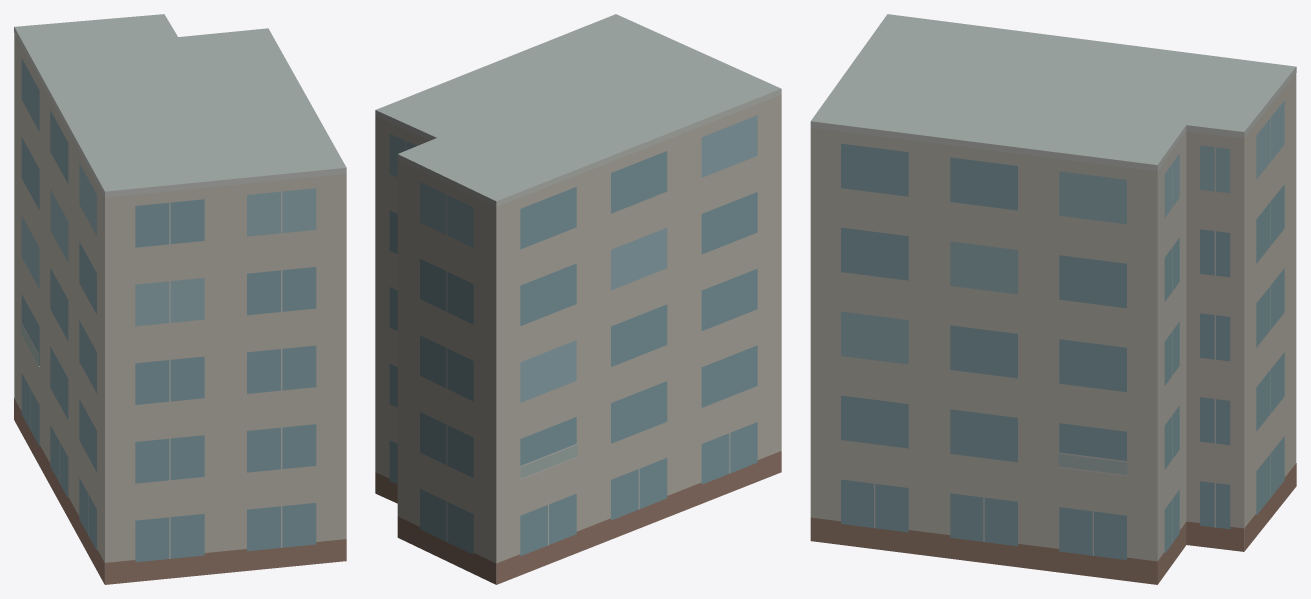
The model's file is survey-upis-32786934.glb.
3 renders of one model, left to right at view 1: azimuth 30°, elevation 25°; view 2: azimuth 150°, elevation 25°; view 3: azimuth 270°, elevation 25°, orthographic. The views are drawn at different scales.
Parts seen in each view (by area): view 1: survey-upis-32786934.tmp; view 2: survey-upis-32786934.tmp; view 3: survey-upis-32786934.tmp.
Boxes of the visible parts, x1,y1,x2,y2 form: survey-upis-32786934.tmp: [14, 14, 346, 584]; survey-upis-32786934.tmp: [375, 14, 781, 584]; survey-upis-32786934.tmp: [810, 14, 1296, 584].
Size of the model in its own units: 12.44 by 16.1 by 16.89.
